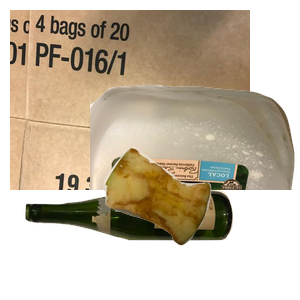cardboard: (10, 10, 250, 190)
glass: (23, 186, 249, 300)
plastic: (90, 82, 300, 262)
trash: (101, 145, 300, 300)
